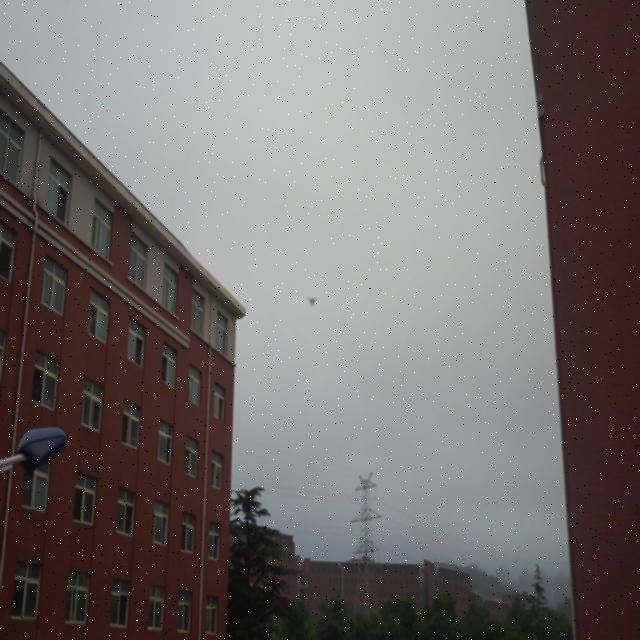UAV: (308, 297, 316, 307)
